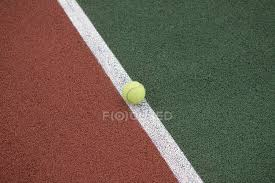tennis_ball: (122, 80, 146, 105)
